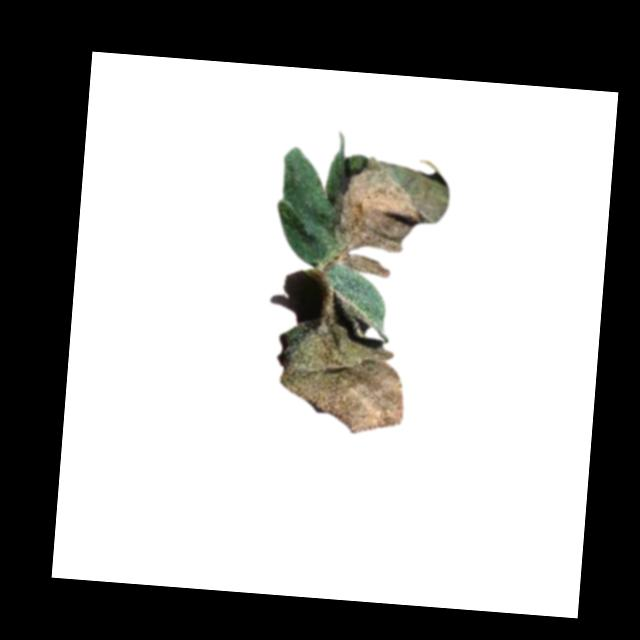Late_blight: (319, 152, 452, 283), (271, 318, 409, 439)
